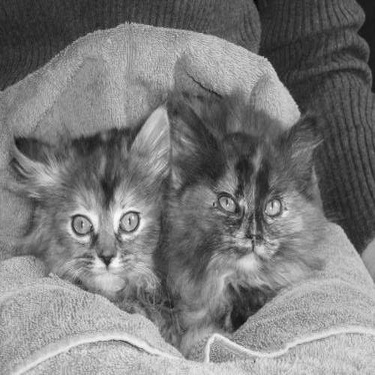cat: (163, 89, 329, 331), (14, 107, 180, 347)
